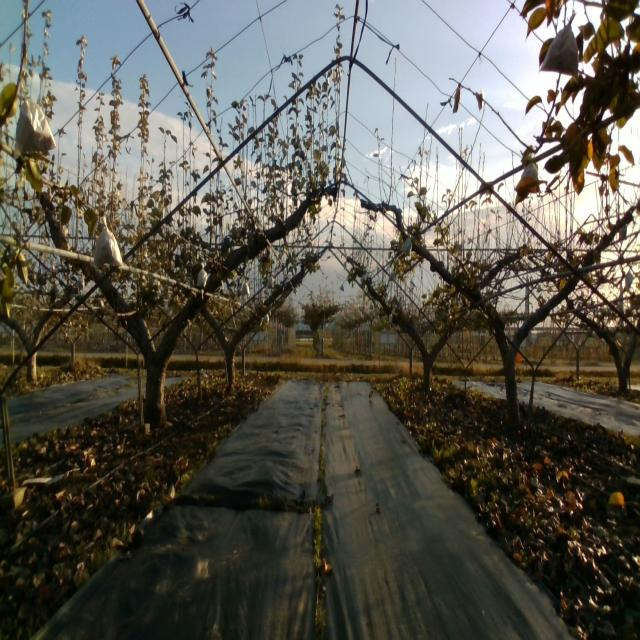pearbags: (15, 81, 57, 157), (538, 9, 579, 77), (93, 214, 123, 268), (401, 234, 413, 256), (522, 164, 539, 179)
